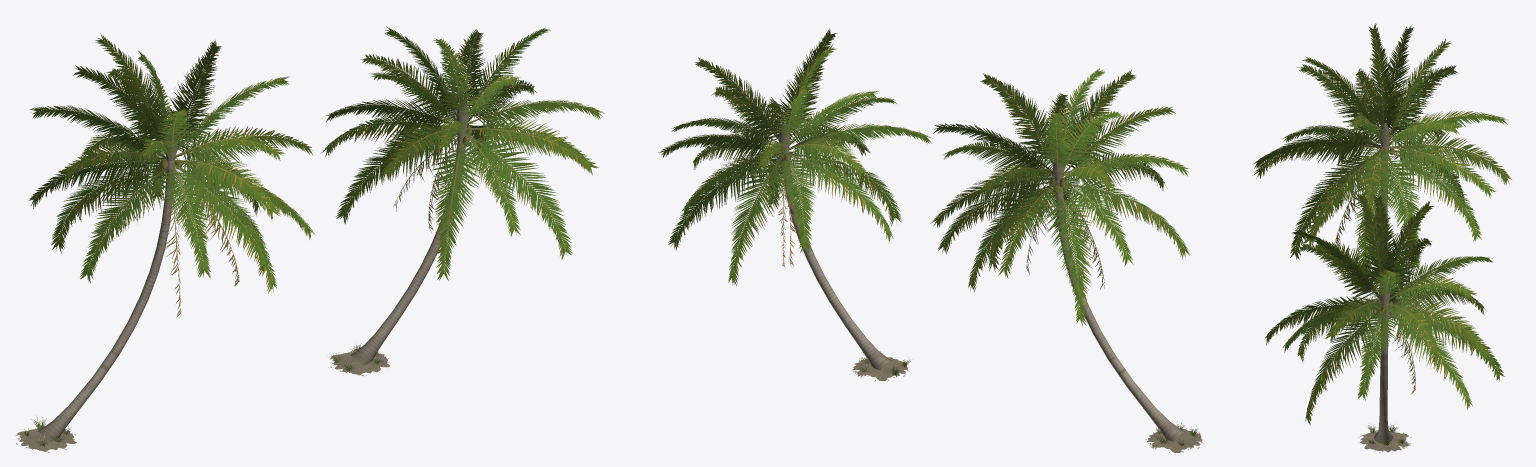
File: coconut_palm_leaning.glb
3 views of the same model, side by side, from view 1: azimuth 30°, elevation 25°; view 2: azimuth 150°, elevation 25°; view 3: azimuth 270°, elevation 25° (orthographic). The views are drawn at different scales.
Visible parts, largest first — view 1: variant_a_lod0, variant_b_lod0; view 2: variant_a_lod0, variant_b_lod0; view 3: variant_a_lod0, variant_b_lod0.
Boxes of the visible parts, bbox=[...] form: variant_a_lod0: bbox=[15, 33, 315, 452]; variant_b_lod0: bbox=[321, 26, 604, 376]; variant_a_lod0: bbox=[930, 68, 1203, 452]; variant_b_lod0: bbox=[658, 28, 932, 381]; variant_a_lod0: bbox=[1252, 23, 1511, 319]; variant_b_lod0: bbox=[1265, 192, 1504, 452].
Size of what is drawn, in the model's own units: 18.09 by 11.95 by 9.14.
Materials: 2 (2 with a texture image).
